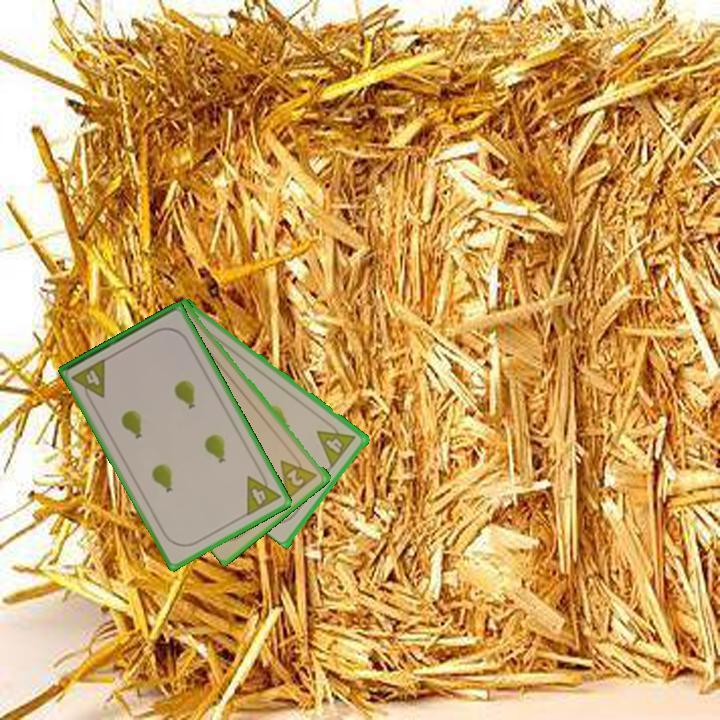2p: (277, 449, 321, 501)
4p: (314, 417, 359, 470), (243, 466, 284, 519), (68, 355, 109, 406)
